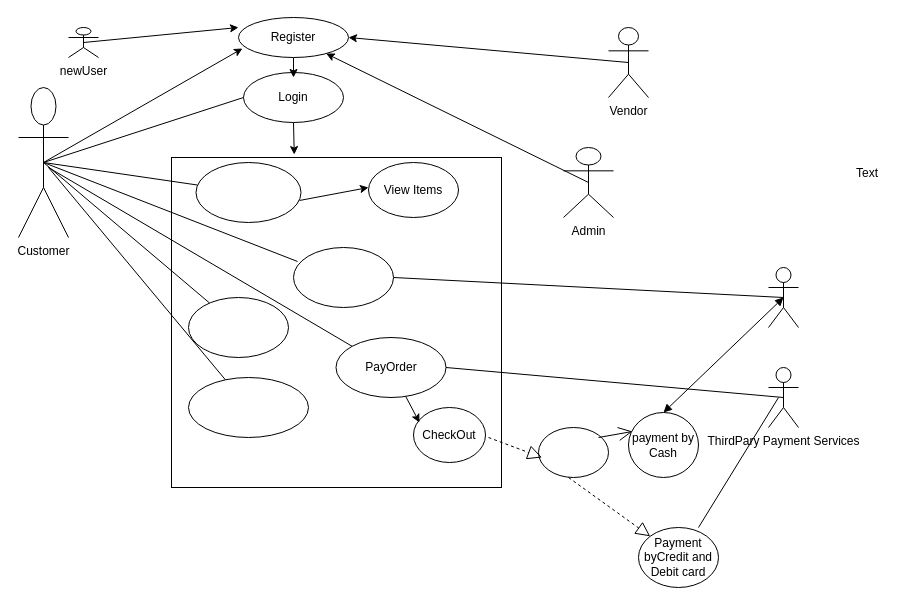
The diagram is 911 pixels wide and 605 high, and some of its shapes have lost their labels. The shapes that lost their labels are listed below. From the top down, each one's box as (x1, y1, x2, y2) in pixels, then its label:
(195, 162, 301, 222): Search Products
(292, 246, 394, 308): Manage Shopping Carts
(768, 266, 798, 328): Delivery System
(188, 296, 288, 358): Manage Orders
(188, 376, 308, 438): Manage Account
(538, 426, 608, 478): payment
